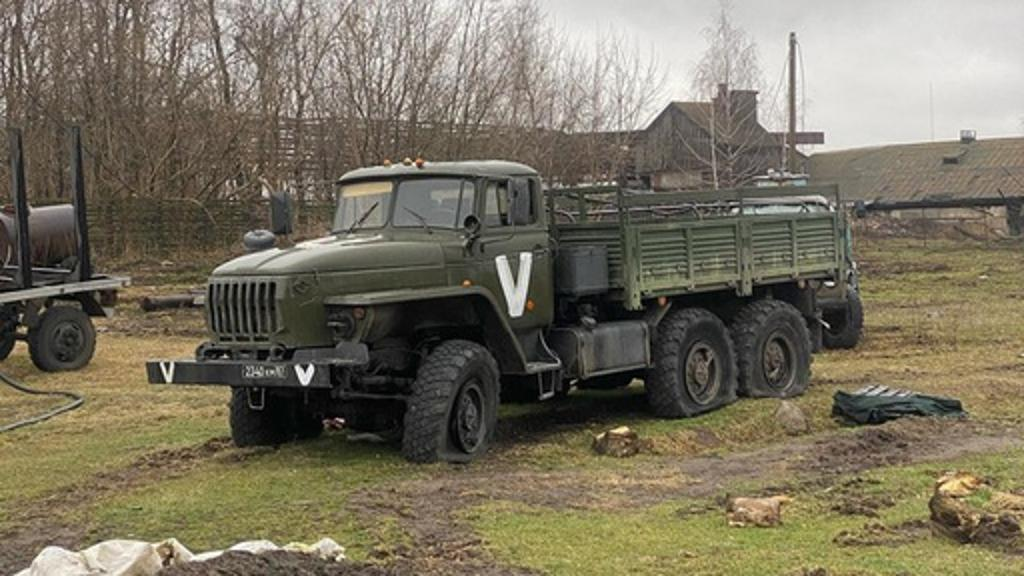TRUCK: (142, 150, 864, 482)
